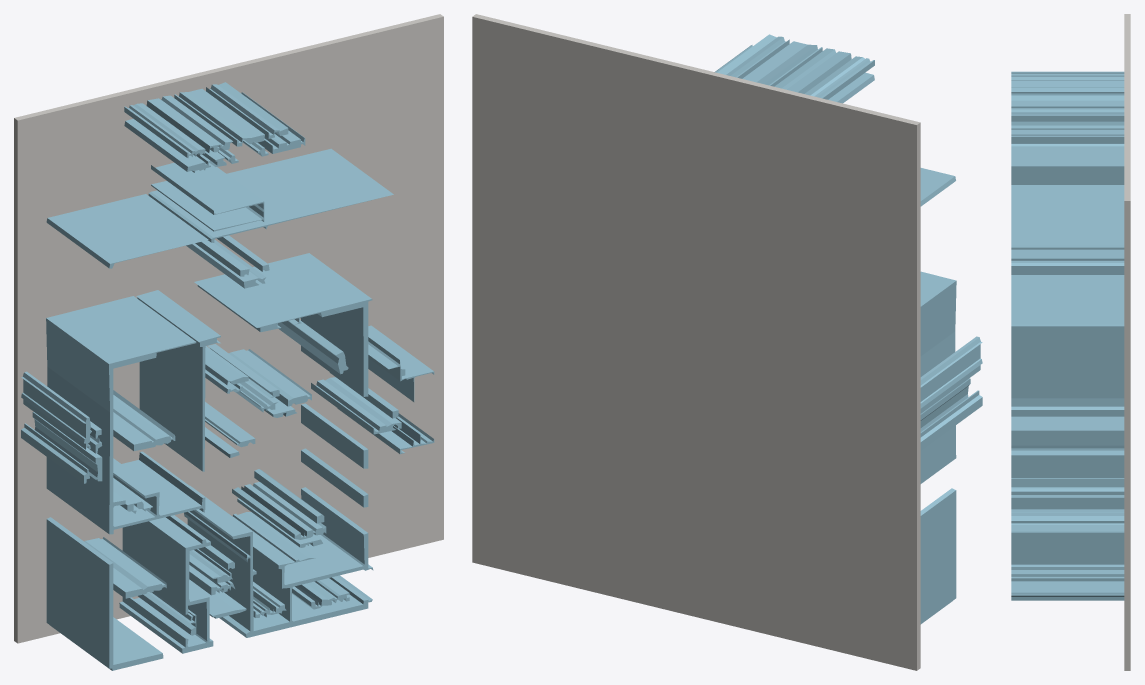
3 renders of one model, left to right at view 1: azimuth 30°, elevation 25°; view 2: azimuth 150°, elevation 25°; view 3: azimuth 270°, elevation 25°, orthographic. The views are drawn at different scales.
Visible parts, largest first — view 1: world; view 2: world; view 3: world.
Part boxes in pixels (bbox=[...]): world: bbox=[14, 14, 443, 670]; world: bbox=[472, 14, 982, 670]; world: bbox=[1011, 14, 1130, 670].
Bounding box in the file's own units: 10.23 × 12 × 2.76.
